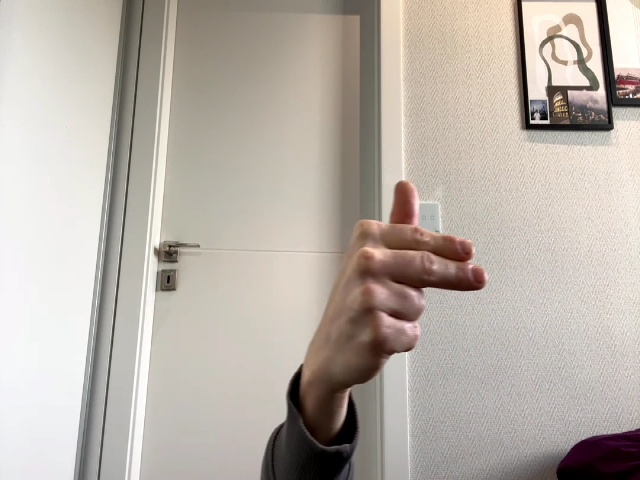N: (335, 181, 487, 375)
